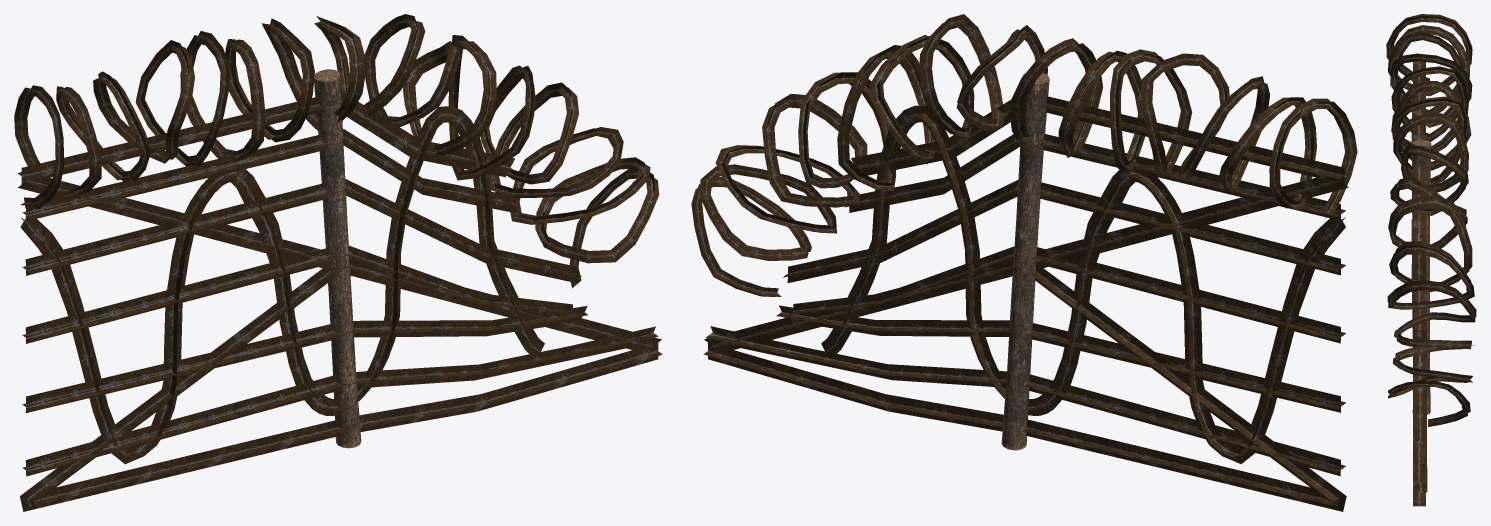
File: Fence_wood_05.FBX
3 renders of one model, left to right at view 1: azimuth 30°, elevation 25°; view 2: azimuth 150°, elevation 25°; view 3: azimuth 270°, elevation 25°, orthographic. The views are drawn at different scales.
Parts seen in each view (by area): view 1: Fence_wood_wire_05, Fence_wood_05; view 2: Fence_wood_wire_05, Fence_wood_05; view 3: Fence_wood_wire_05, Fence_wood_05.
Part boxes in pixels (box(x1,y1,x2,y2)): Fence_wood_wire_05: box(14, 14, 662, 511); Fence_wood_05: box(314, 69, 361, 448); Fence_wood_wire_05: box(691, 14, 1357, 511); Fence_wood_05: box(1001, 72, 1049, 450); Fence_wood_wire_05: box(1386, 14, 1476, 506); Fence_wood_05: box(1412, 139, 1431, 414).
Bounding box in the file's own units: 490 × 312 × 84.1.
